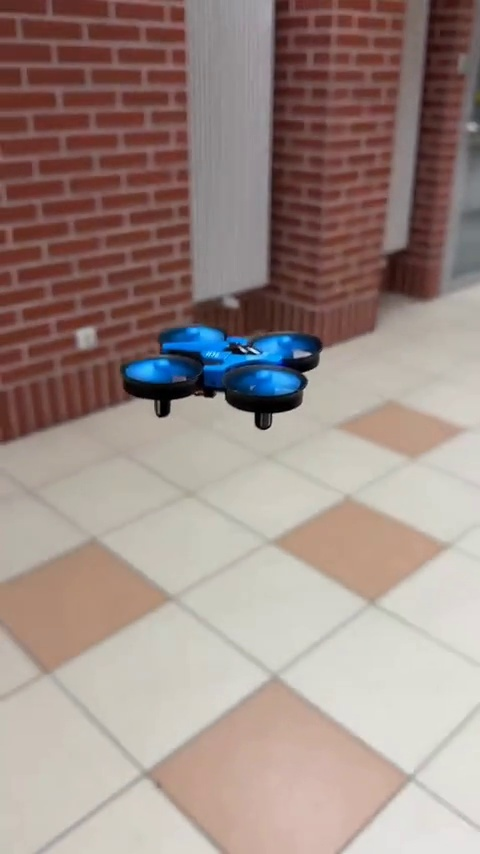drone: (126, 331, 325, 427)
